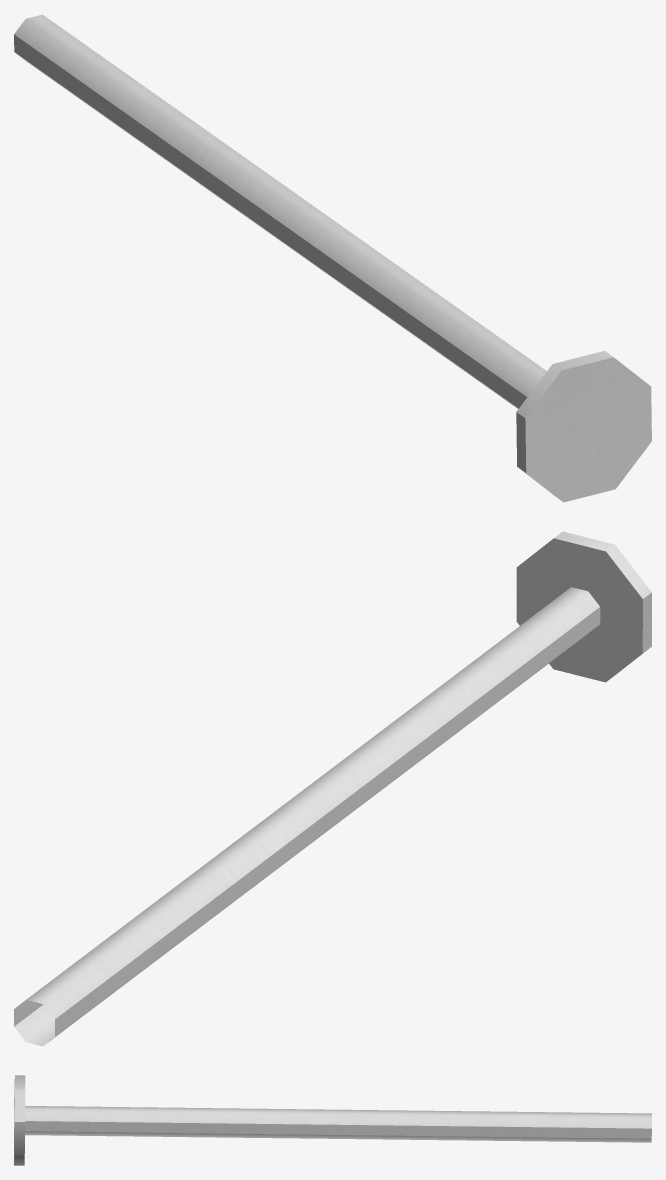
3 renders of one model, top to bottom at view 1: azimuth 30°, elevation 25°; view 2: azimuth 150°, elevation 25°; view 3: azimuth 270°, elevation 25°, orthographic. The views are drawn at different scales.
Visible parts, largest first — view 1: SM_针筒002; view 2: SM_针筒002; view 3: SM_针筒002.
Boxes of the visible parts, x1,y1,x2,y2 form: SM_针筒002: (14, 14, 651, 502); SM_针筒002: (14, 531, 651, 1046); SM_针筒002: (14, 1075, 651, 1165).
Size of the model in its own units: 0.0157 by 0.0157 by 0.1194.
